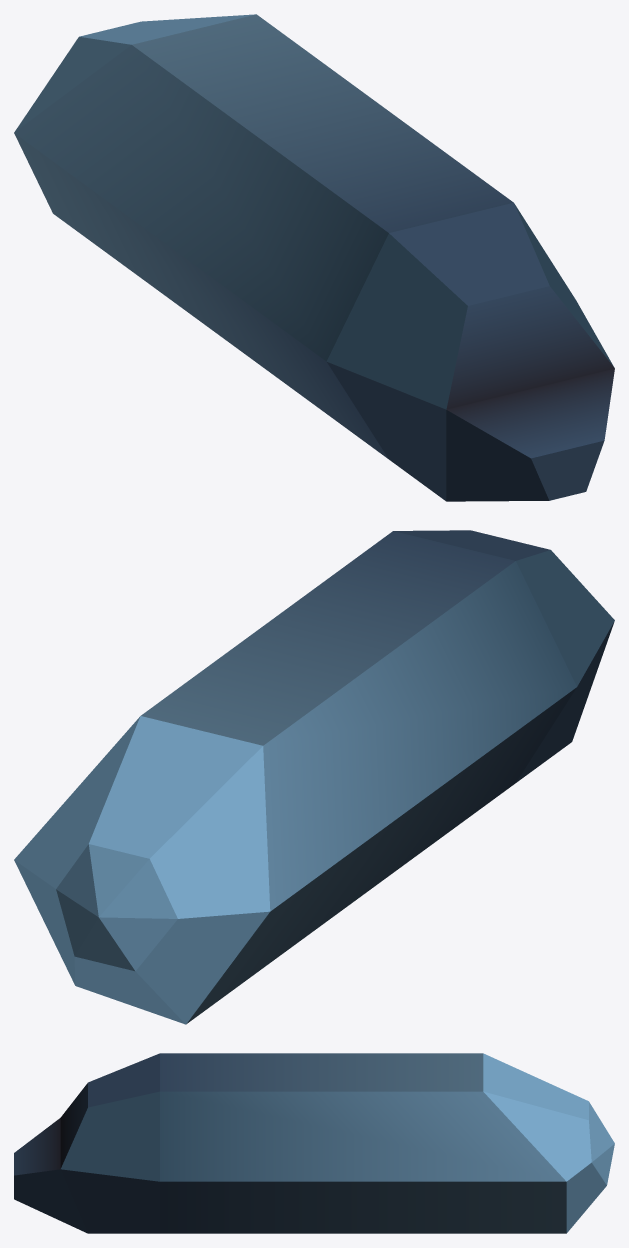
Rendered from IceCrystal.003.glb.
3 views of the same model, one above another, from view 1: azimuth 30°, elevation 25°; view 2: azimuth 150°, elevation 25°; view 3: azimuth 270°, elevation 25° (orthographic). The views are drawn at different scales.
Visible parts, largest first — view 1: IceCrystal.003; view 2: IceCrystal.003; view 3: IceCrystal.003.
Boxes of the visible parts, bbox=[...] form: IceCrystal.003: bbox=[14, 14, 614, 501]; IceCrystal.003: bbox=[14, 530, 614, 1024]; IceCrystal.003: bbox=[14, 1053, 614, 1233].
Size of the model in its own units: 201 by 174 by 667.
